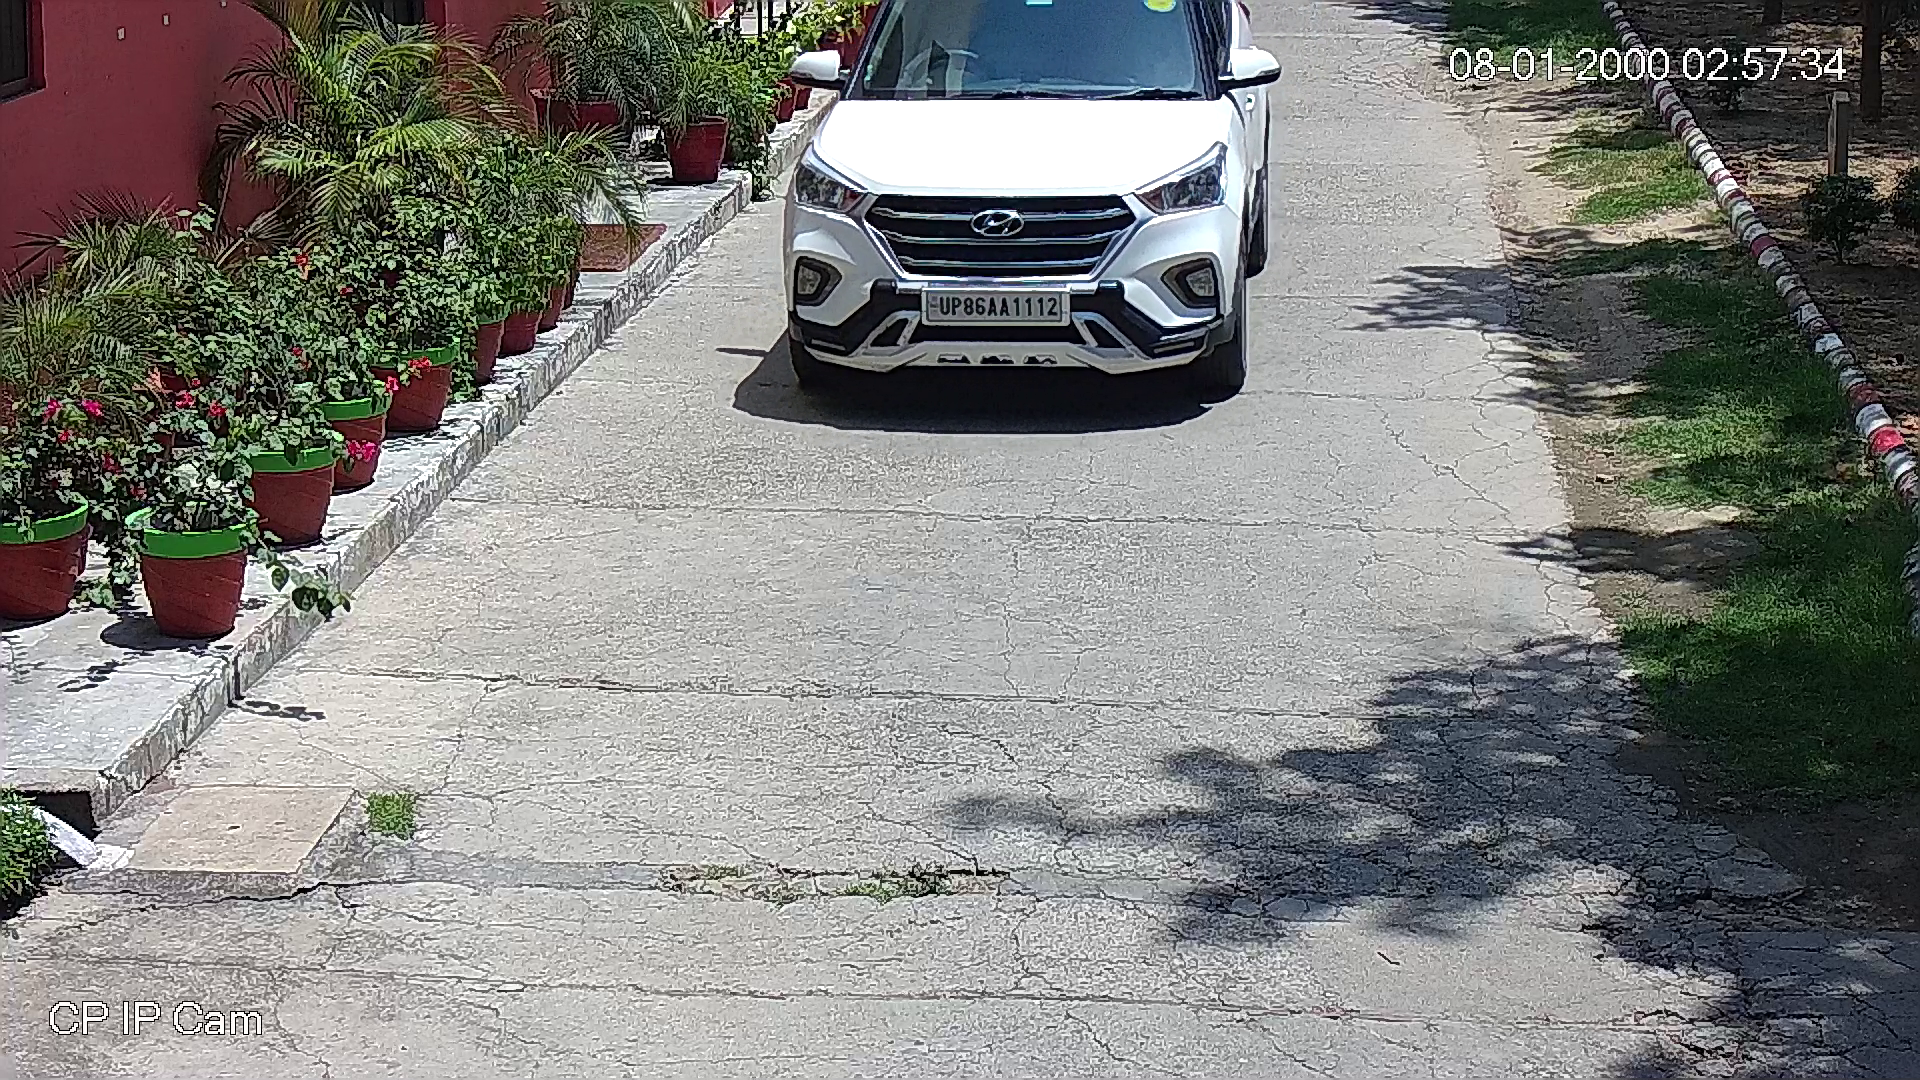plate: (915, 285, 1074, 326)
